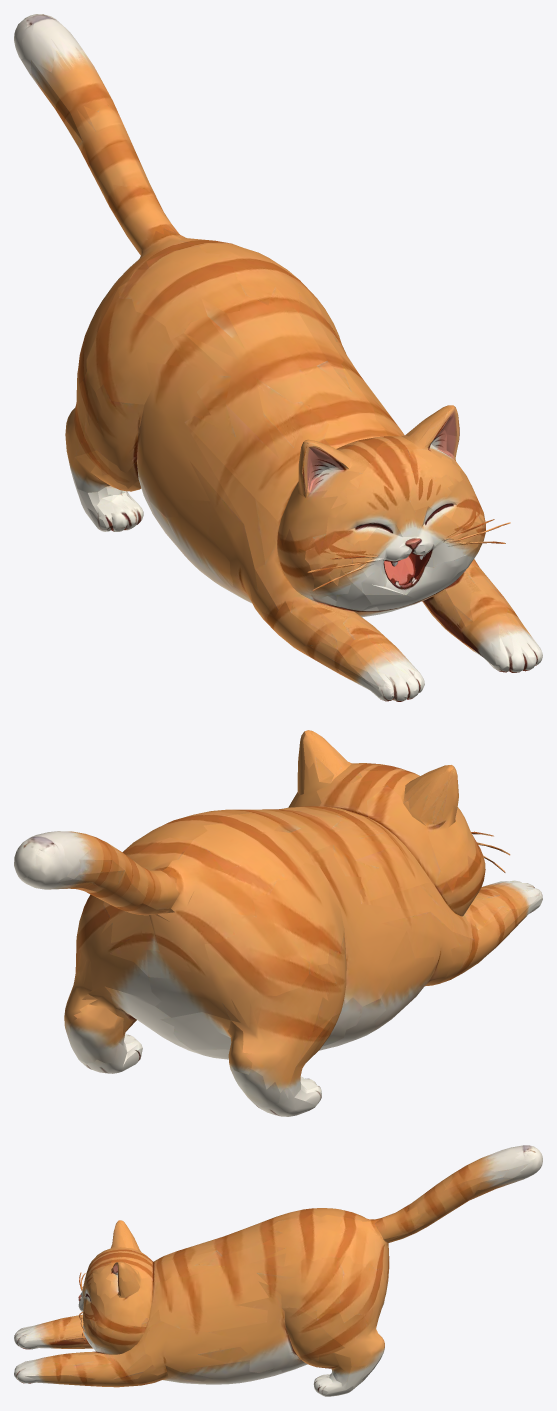
Rendered from cat-stretch.glb.
3 views of the same model, one above another, from view 1: azimuth 30°, elevation 25°; view 2: azimuth 150°, elevation 25°; view 3: azimuth 270°, elevation 25° (orthographic). The views are drawn at different scales.
Bounding box in the file's own units: 0.5965 × 0.8725 × 1.9.
1 material, 1 textured.
